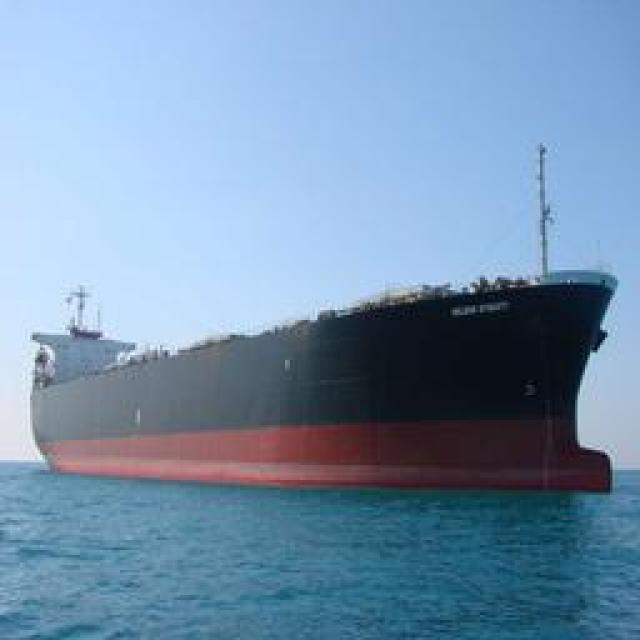ship2: (29, 144, 620, 496)
